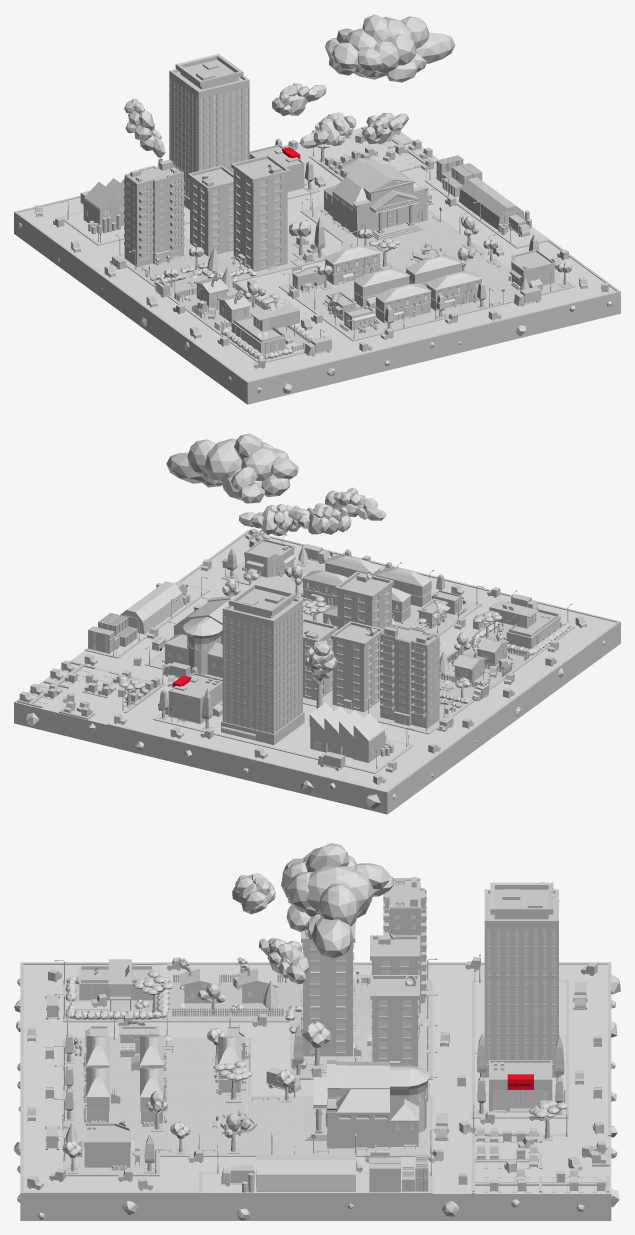
Rendered from city.fbx.
The picture shows the model from 3 angles, top to bottom: view 1: azimuth 30°, elevation 25°; view 2: azimuth 150°, elevation 25°; view 3: azimuth 270°, elevation 25°; orthographic projection. The views are drawn at different scales.
Parts seen in each view (by area): view 1: Icosphere, Ufficio, Struttura, Condominio.001, Floor.001, Condominio.002, Cube, Villa, Storage, Plane.012, Factory, Plane.089 (+45 smaller); view 2: Icosphere, Ufficio, Floor.001, Factory, Condominio.002, Plane.069, Cube, Villa, SuperMarket, Storage, Condominio.001, Retro (+41 smaller); view 3: Icosphere, Ufficio, Struttura, Condominio.001, Plane.069, Storage, Cube, SuperMarket, Condominio, Plane.089, Villa, Plane.072 (+96 smaller).
Boxes of the visible parts, bbox=[...] form: Icosphere: bbox=[272, 14, 455, 148]; Ufficio: bbox=[169, 77, 249, 198]; Struttura: bbox=[332, 162, 428, 237]; Condominio.001: bbox=[233, 169, 287, 271]; Floor.001: bbox=[124, 175, 184, 256]; Condominio.002: bbox=[190, 179, 233, 256]; Cube: bbox=[169, 53, 249, 97]; Villa: bbox=[231, 303, 299, 354]; Storage: bbox=[459, 177, 524, 230]; Plane.012: bbox=[229, 364, 278, 404]; Factory: bbox=[83, 178, 124, 230]; Plane.089: bbox=[304, 206, 453, 249]; Icosphere: bbox=[166, 433, 386, 536]; Ufficio: bbox=[222, 606, 302, 733]; Floor.001: bbox=[380, 637, 440, 718]; Factory: bbox=[309, 702, 384, 762]; Condominio.002: bbox=[332, 636, 380, 712]; Plane.069: bbox=[14, 702, 154, 753]; Cube: bbox=[222, 582, 302, 626]; Villa: bbox=[489, 600, 560, 648]; SuperMarket: bbox=[168, 672, 222, 724]; Storage: bbox=[120, 581, 183, 634]; Condominio.001: bbox=[337, 586, 391, 629]; Retro: bbox=[183, 617, 222, 674]; Icosphere: bbox=[232, 843, 394, 984]; Ufficio: bbox=[484, 928, 558, 1063]; Struttura: bbox=[313, 1060, 390, 1148]; Condominio.001: bbox=[302, 943, 354, 1056]; Plane.069: bbox=[475, 1116, 611, 1220]; Storage: bbox=[256, 1154, 355, 1191]; Cube: bbox=[484, 882, 558, 928]; SuperMarket: bbox=[488, 1060, 552, 1112]; Condominio: bbox=[371, 1000, 418, 1066]; Plane.089: bbox=[284, 1097, 429, 1154]; Villa: bbox=[79, 959, 153, 1011]; Plane.072: bbox=[62, 1173, 111, 1220].
Size of the model in its own units: 12247 by 7294 by 13351.
